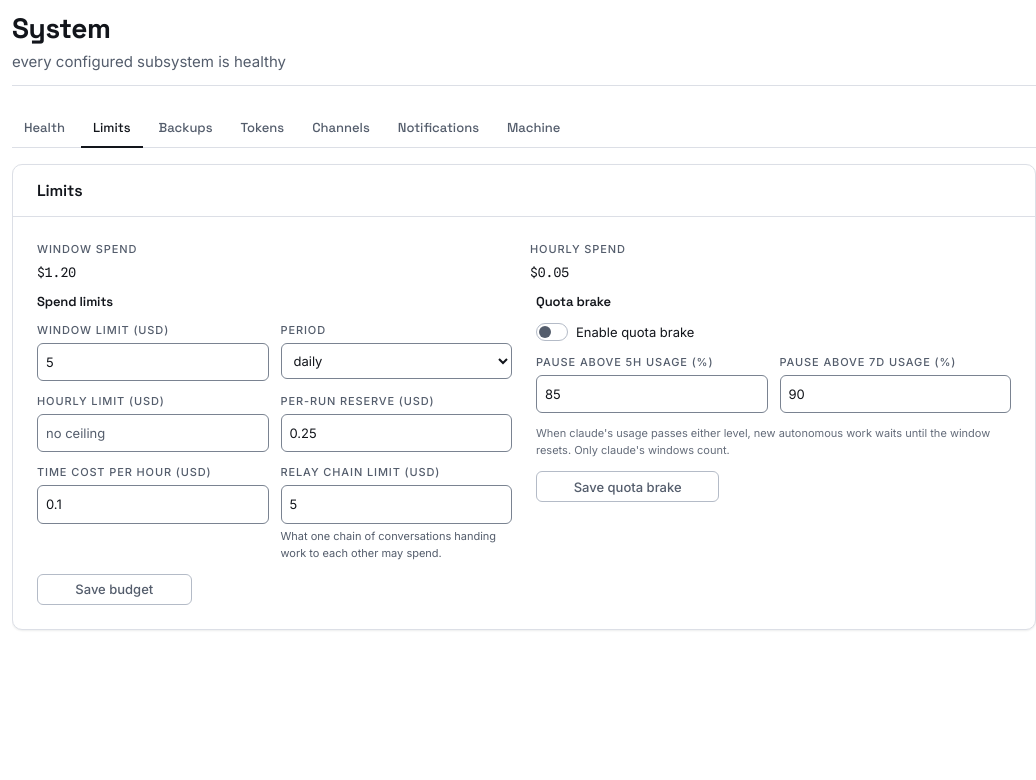
Test: System - budget › refuses to save when a ceiling box holds text that is not a number (abc)
Replace the text in the field labelled "Window limit (USD)" with "abc" at x=153, y=362, box 37,343 -> 268,381
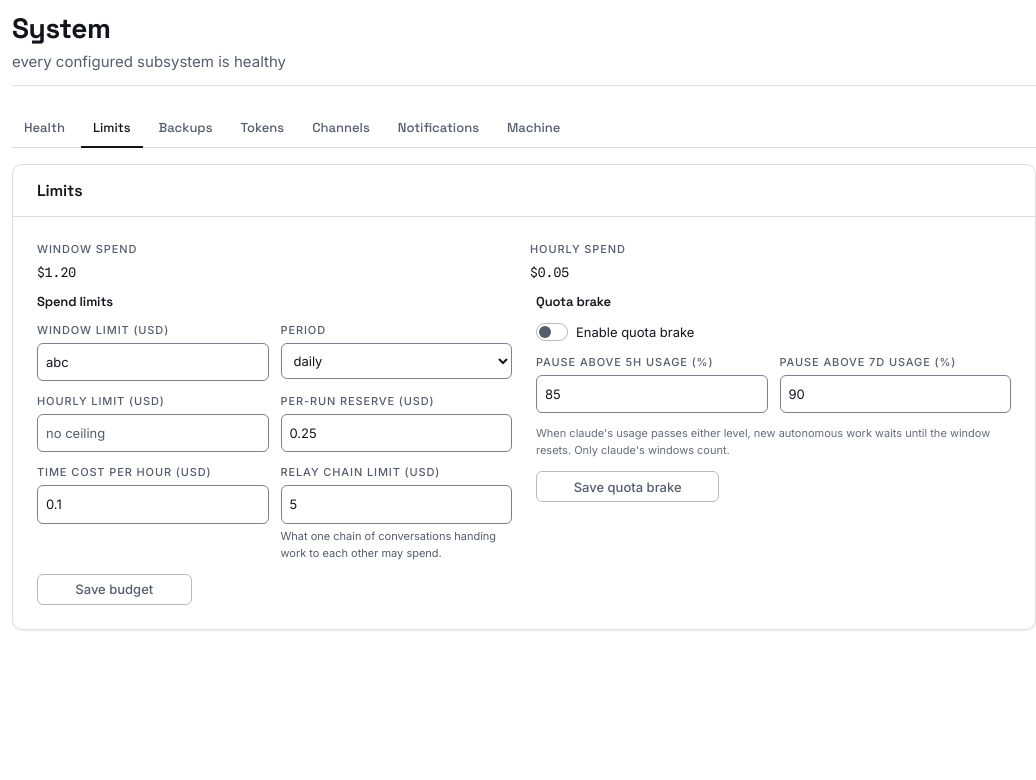
Click the button "Save budget".
click(114, 589)  # box 37,574 -> 192,605
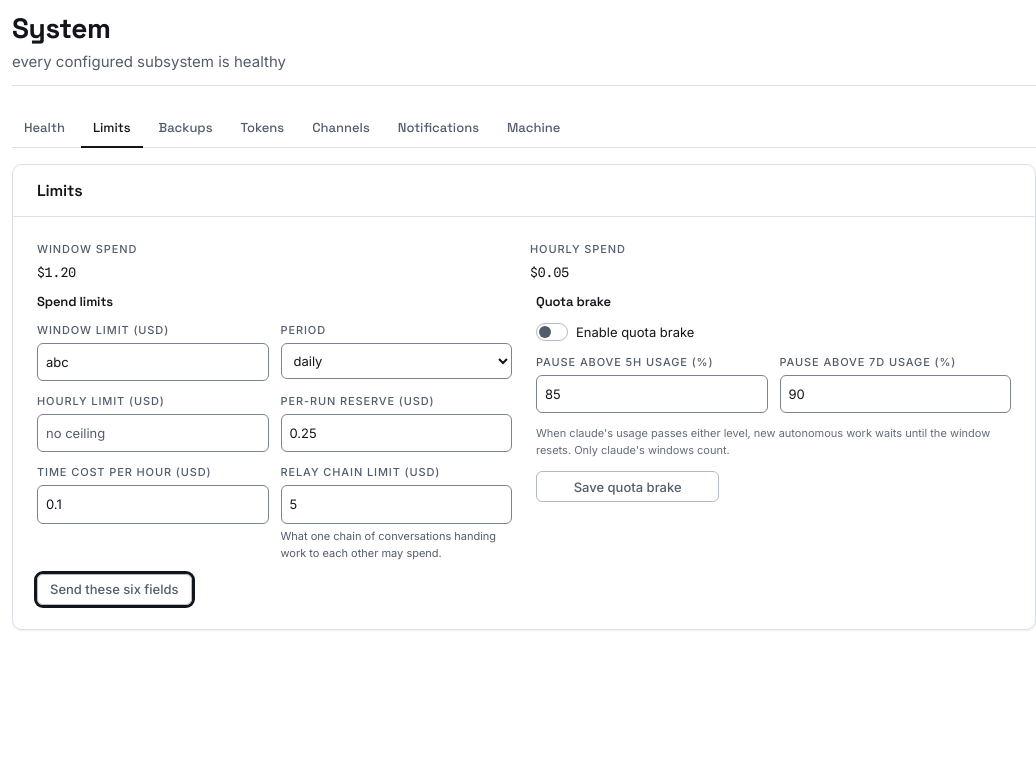
Click the button "Send these six fields".
click(114, 589)  # box 37,574 -> 192,605
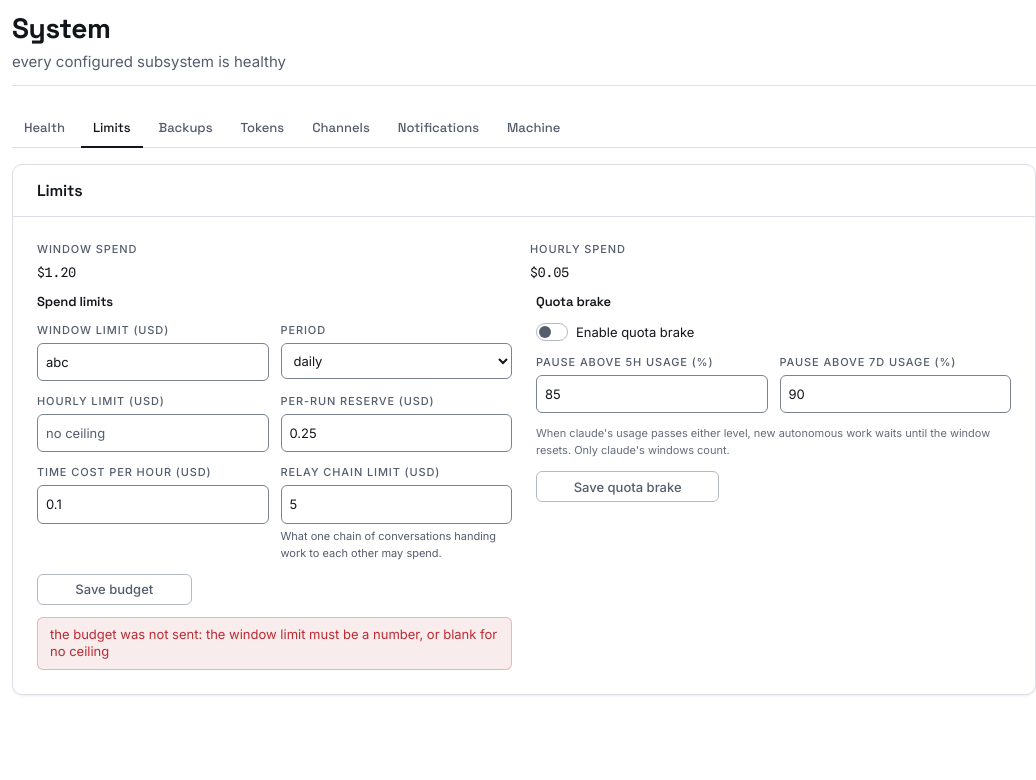
Now the message shows "the window limit", box 206,626 -> 305,642
